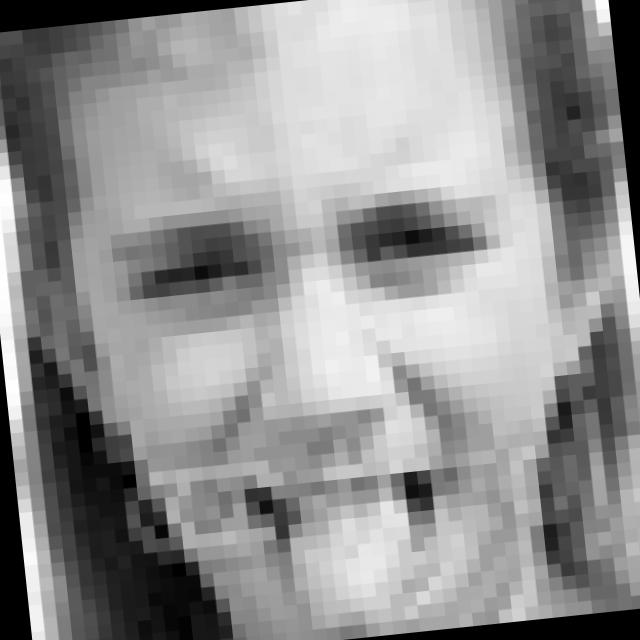disgust: (106, 179, 553, 640)
